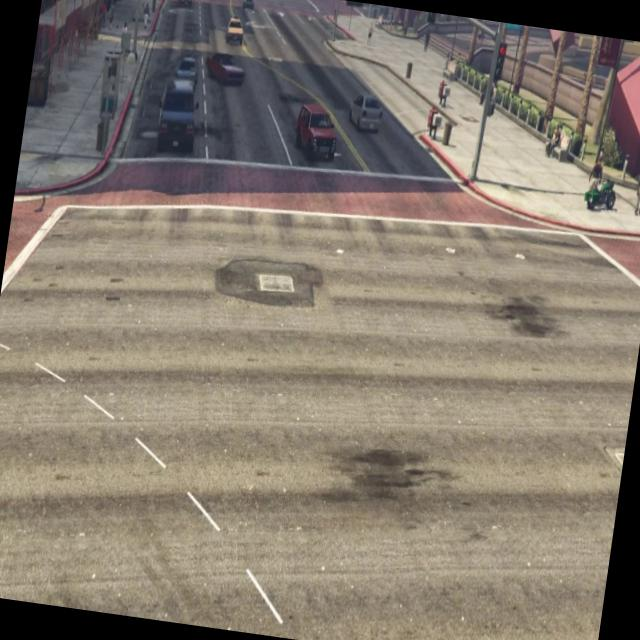Red-Signal: (484, 33, 520, 103), (414, 11, 448, 44)
